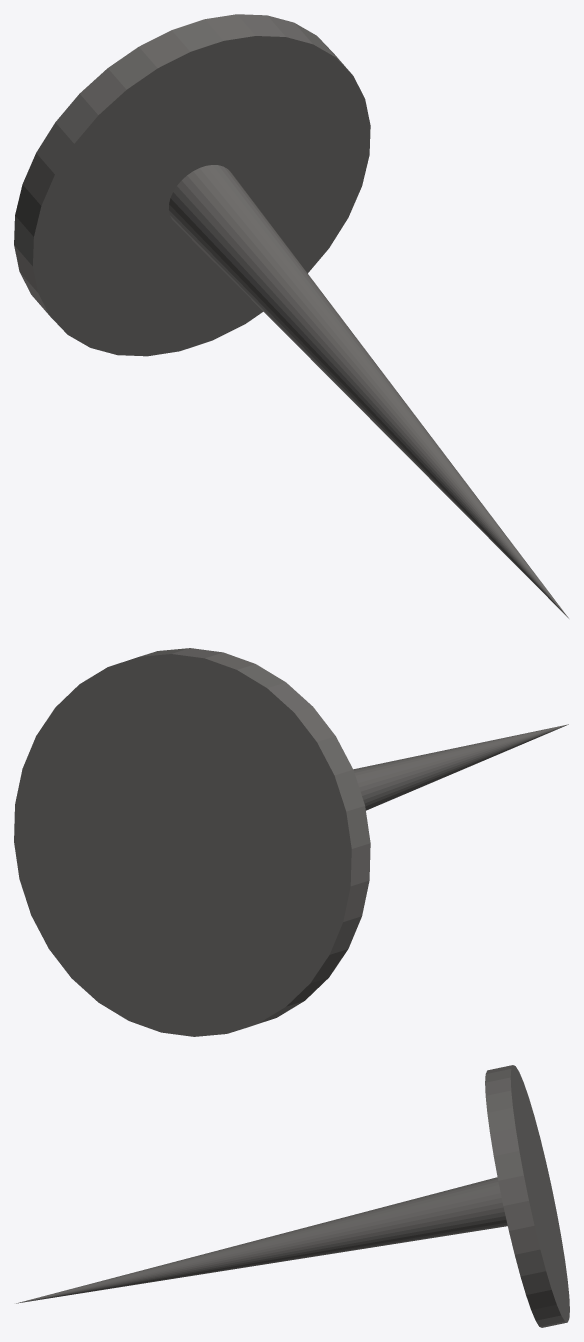
The model's file is nail.fbx.
3 views of the same model, one above another, from view 1: azimuth 30°, elevation 25°; view 2: azimuth 150°, elevation 25°; view 3: azimuth 270°, elevation 25° (orthographic). The views are drawn at different scales.
Visible parts, largest first — view 1: Cone; view 2: Cone; view 3: Cone.
Boxes of the visible parts, box(x1,y1,x2,y2) form: Cone: box(14, 14, 568, 618); Cone: box(14, 648, 568, 1036); Cone: box(16, 1065, 569, 1327).
Size of the model in its own units: 100 by 99.69 by 211.
1 material, 1 textured.
